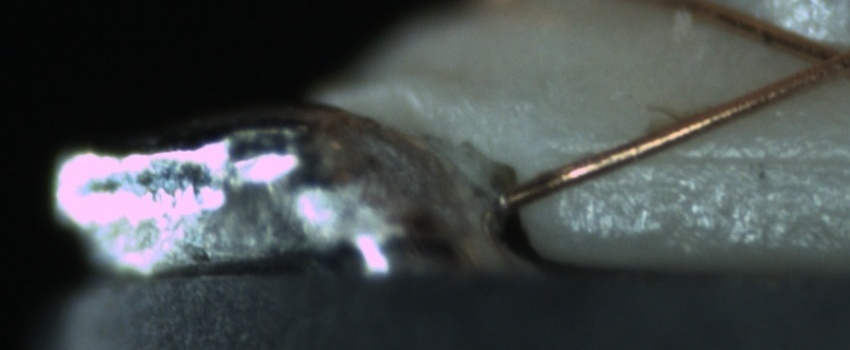CL: (780, 30, 847, 89)
DL: (570, 125, 849, 189)
